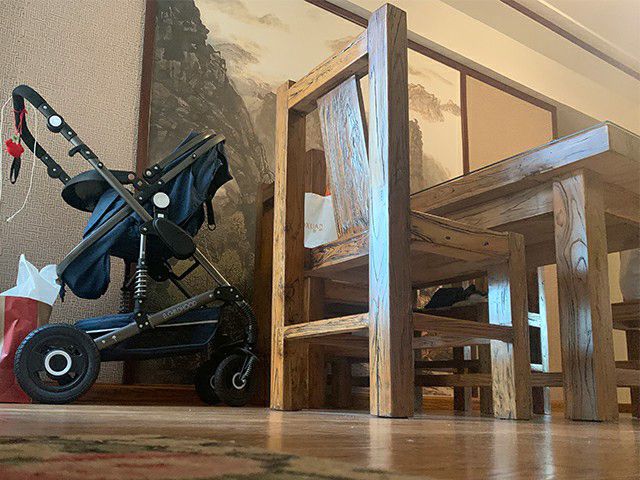carpet: (1, 430, 423, 480)
stool: (268, 2, 534, 422)
table: (408, 119, 640, 422)
